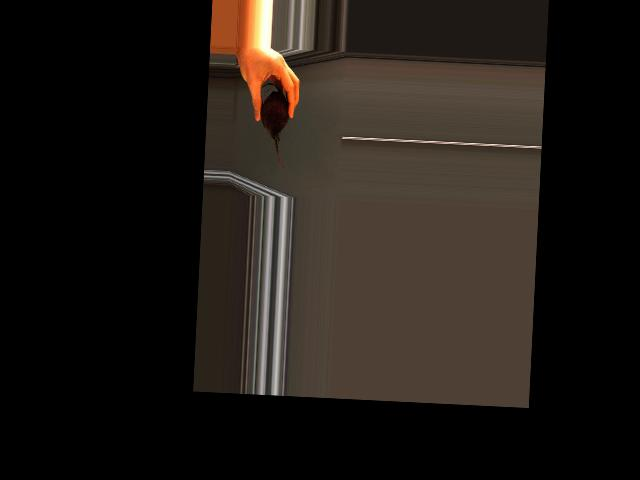beet: (257, 83, 289, 172)
